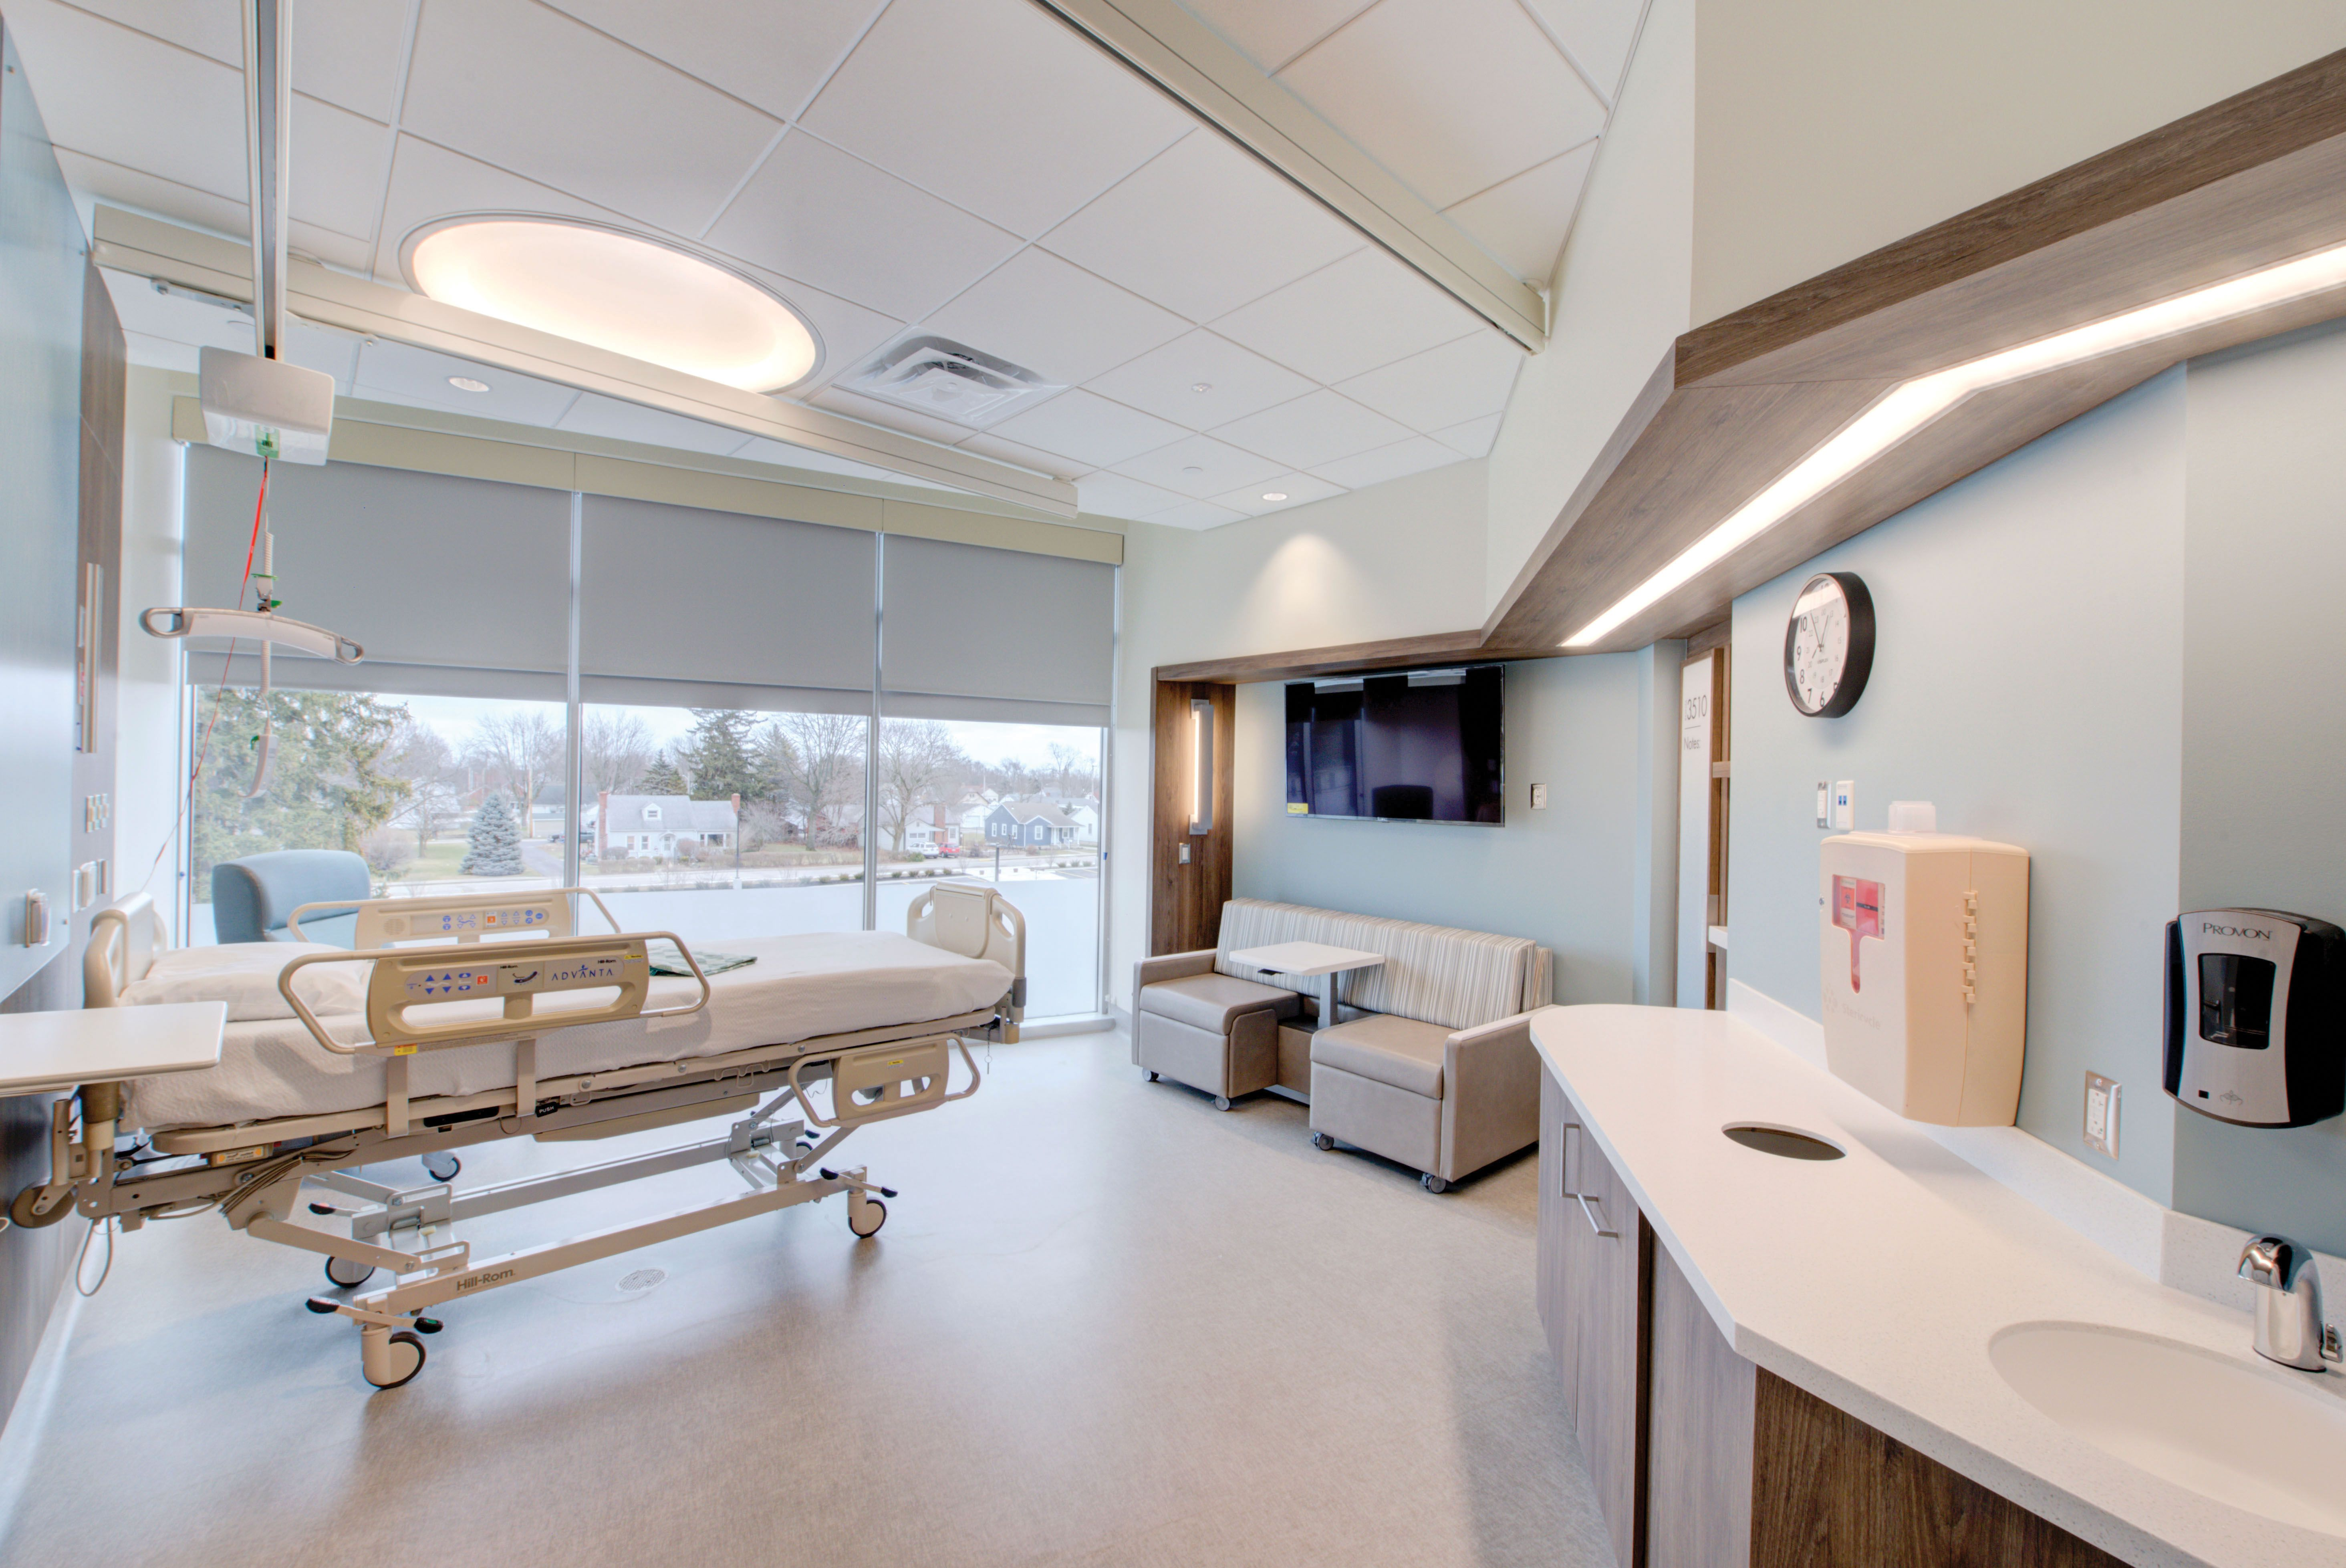TV: (1282, 667, 1507, 830)
bedrail: (275, 936, 714, 1059), (280, 891, 630, 950)
counter: (1518, 984, 2325, 1568)
countertop: (1542, 994, 2157, 1330)
dispenser: (2160, 901, 2346, 1132)
faucet: (2227, 1223, 2346, 1379)
foot_board: (903, 879, 1029, 1024)
handle: (1556, 1118, 1584, 1202), (1576, 1195, 1616, 1237)
hospital_bed: (79, 889, 1028, 1388)
medical_waste_container: (1814, 833, 2029, 1123)
sink: (1982, 1234, 2346, 1568)
sofa: (1129, 896, 1553, 1193), (203, 845, 411, 945)
table: (1231, 938, 1385, 1033)
